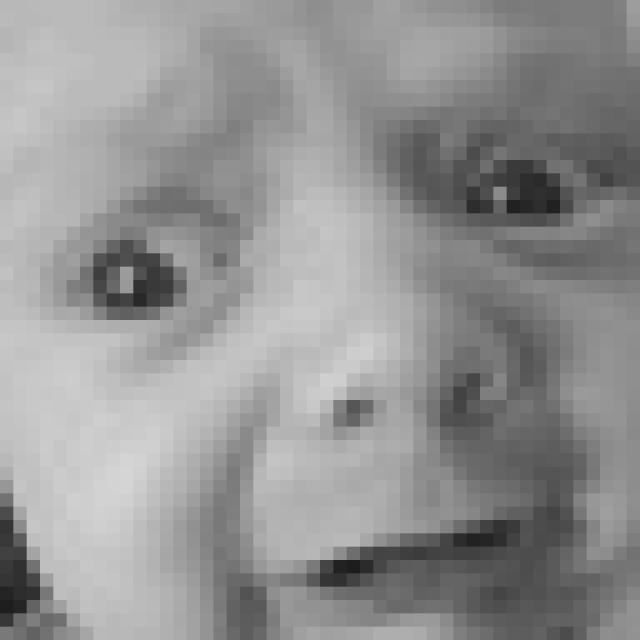fear: (33, 46, 640, 629)
